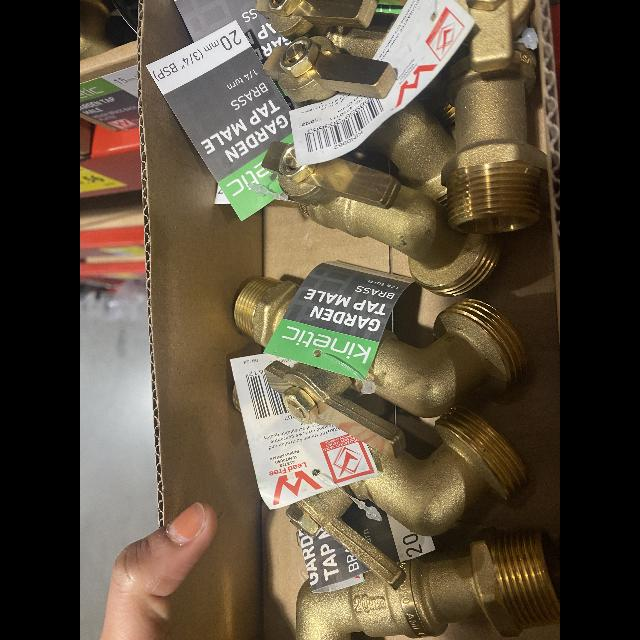Brass: (262, 139, 501, 296), (296, 527, 560, 640), (340, 405, 531, 535), (440, 0, 547, 232), (366, 298, 527, 417), (265, 361, 406, 458), (286, 489, 406, 590), (365, 100, 455, 208), (263, 36, 396, 107), (256, 0, 397, 59), (233, 276, 298, 347), (424, 79, 456, 124), (234, 385, 241, 411)
